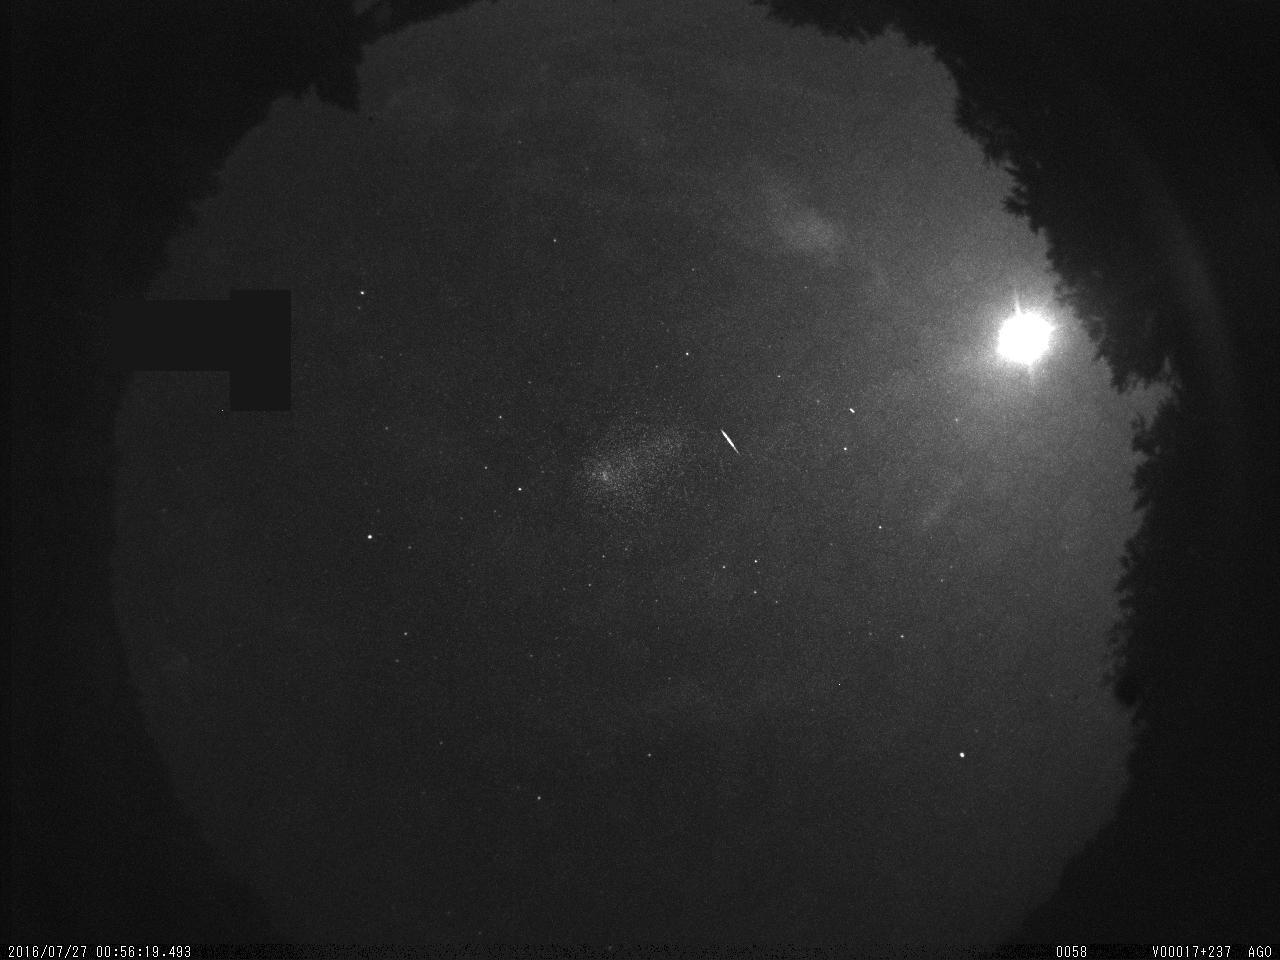meteor: (713, 416, 757, 461)
